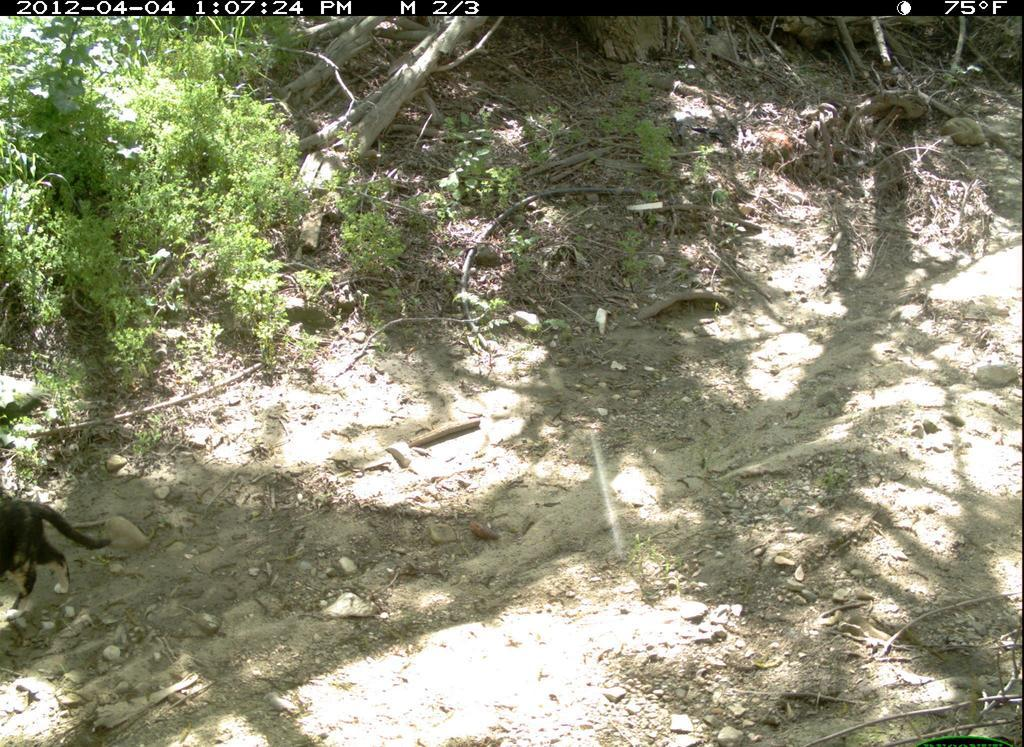cat: (1, 489, 122, 624)
